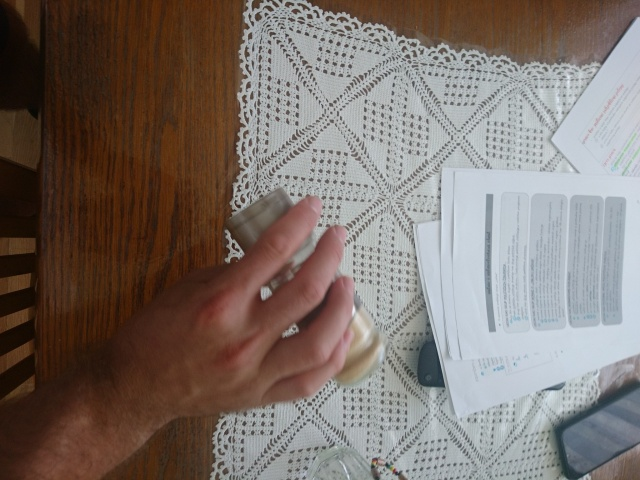Kotanyi Garlic Granules 70g: (221, 185, 391, 391)
